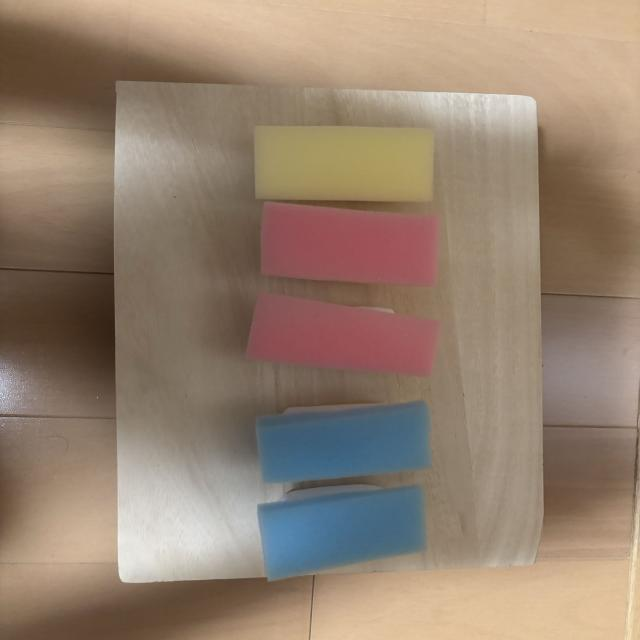ika: (257, 485, 426, 581), (256, 401, 431, 483)
tai: (246, 292, 440, 377), (261, 202, 440, 286)
tamago: (254, 126, 434, 202)
